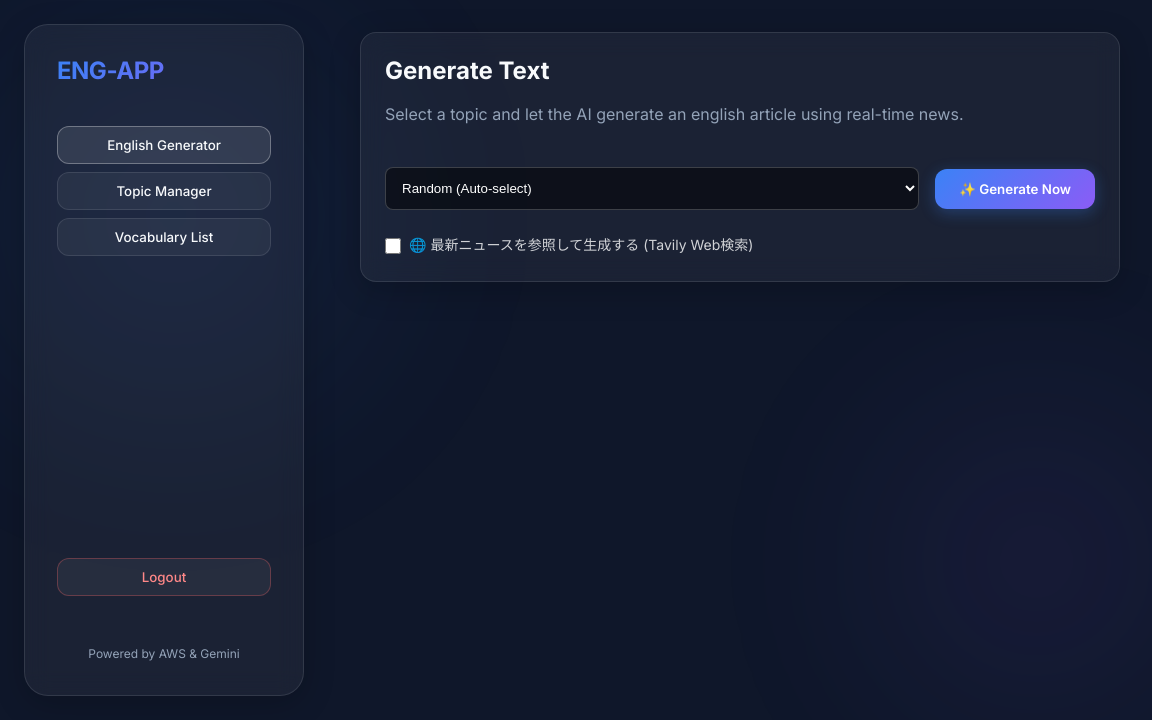
it: App Component (Routing & Auth Integration) › logs out and returns to Login screen when Logout is clicked
The image size is (1152, 720).
Click the button "Logout" at (164, 577), box [57,558,271,596]
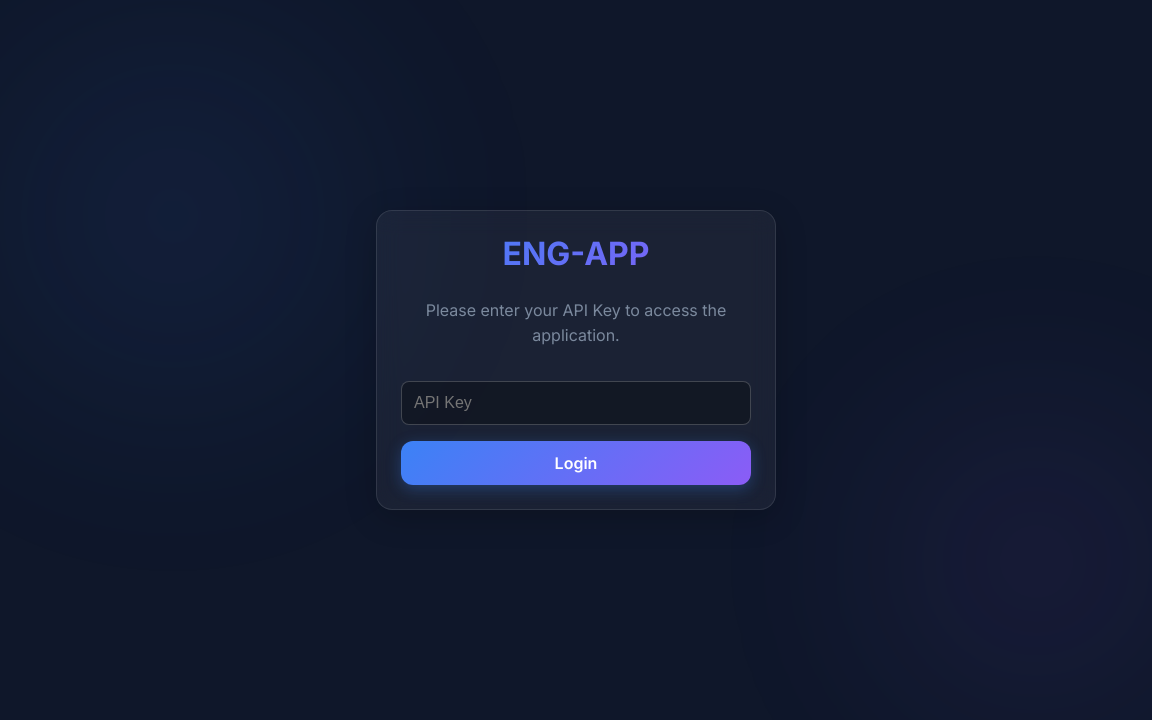
Result: the text "Please enter your API Key to access the application." is shown at [401,298,751,349]
